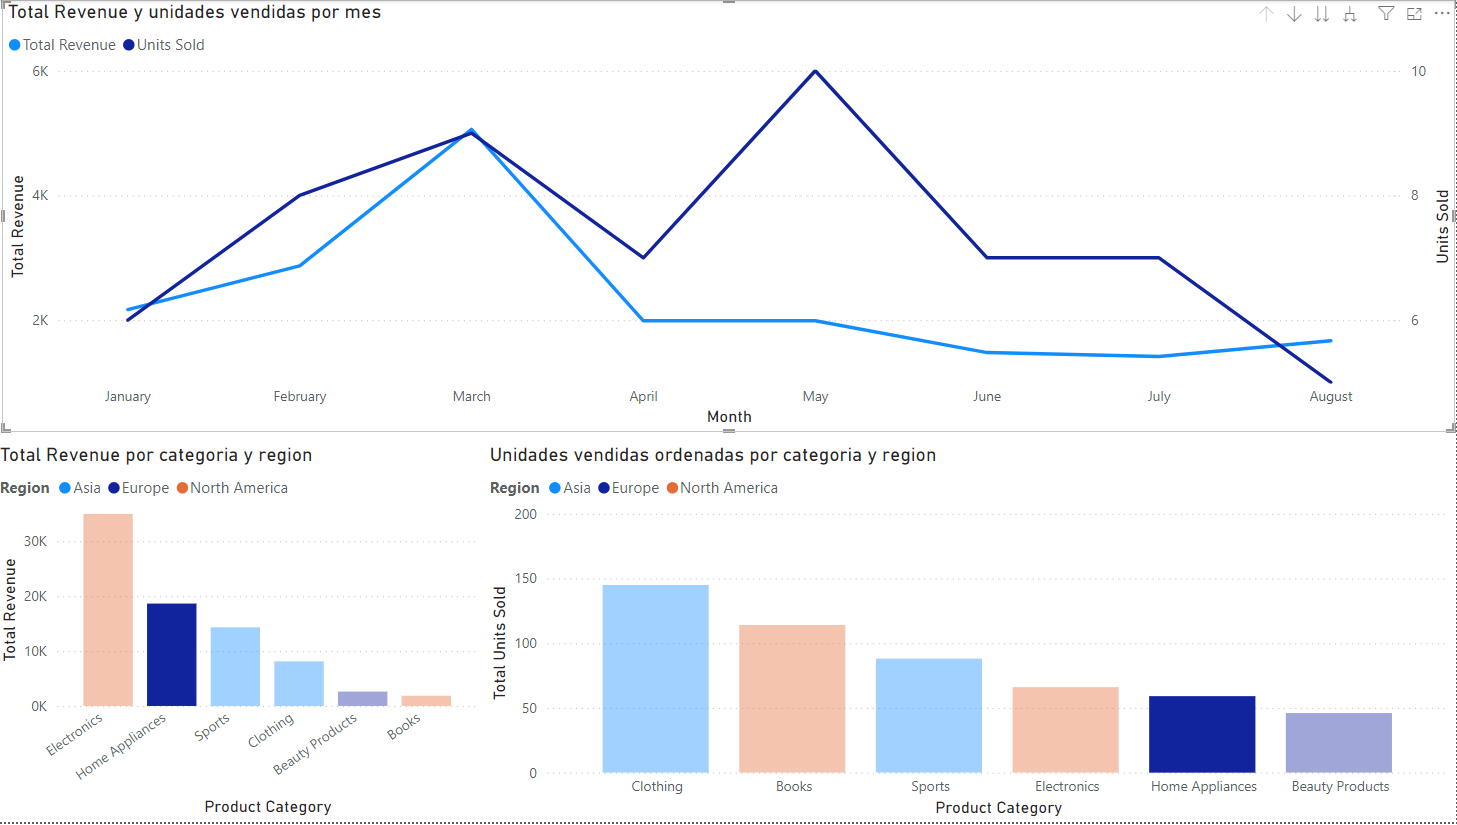

This screenshot's page, from the dashboard's own definition file:
{"tool":"powerbi","page":{"name":"Page 1","canvas":[1280,720],"ordinal":0},"visuals":[{"type":"lineChart","title":"Total Revenue y unidades vendidas por mes","fields":{"Y":["Sum(Online Sales Data.Total Revenue)"],"Category":["Online Sales Data.Date.Variation.Date Hierarchy.Month","Online Sales Data.Date.Variation.Date Hierarchy.Day"],"Y2":["Sum(Online Sales Data.Units Sold)"]},"box":[6.8,0,1273.2,378.4],"z":0},{"type":"columnChart","title":"Total Revenue por categoria y region","fields":{"Category":["Online Sales Data.Product Category"],"Y":["Sum(Online Sales Data.Total Revenue)"],"Series":["Online Sales Data.Region"]},"box":[0,388.1,428.9,331.7],"z":1000},{"type":"columnChart","title":"Unidades vendidas ordenadas por categoria y region","fields":{"Category":["Online Sales Data.Product Category"],"Y":["Sum(Online Sales Data.Units Sold)"],"Series":["Online Sales Data.Region"]},"box":[429.2,387.2,850.5,332],"z":2000}]}

Visuals, with their boxes in screenshot pixels (x1, y1, x2, y2), scaled from the page's 1280x720 canvas onto the 1457x825 screenshot:
"Total Revenue y unidades vendidas por mes" lineChart: crop(8, 0, 1456, 434)
"Total Revenue por categoria y region" columnChart: crop(0, 445, 488, 824)
"Unidades vendidas ordenadas por categoria y region" columnChart: crop(489, 444, 1456, 824)
